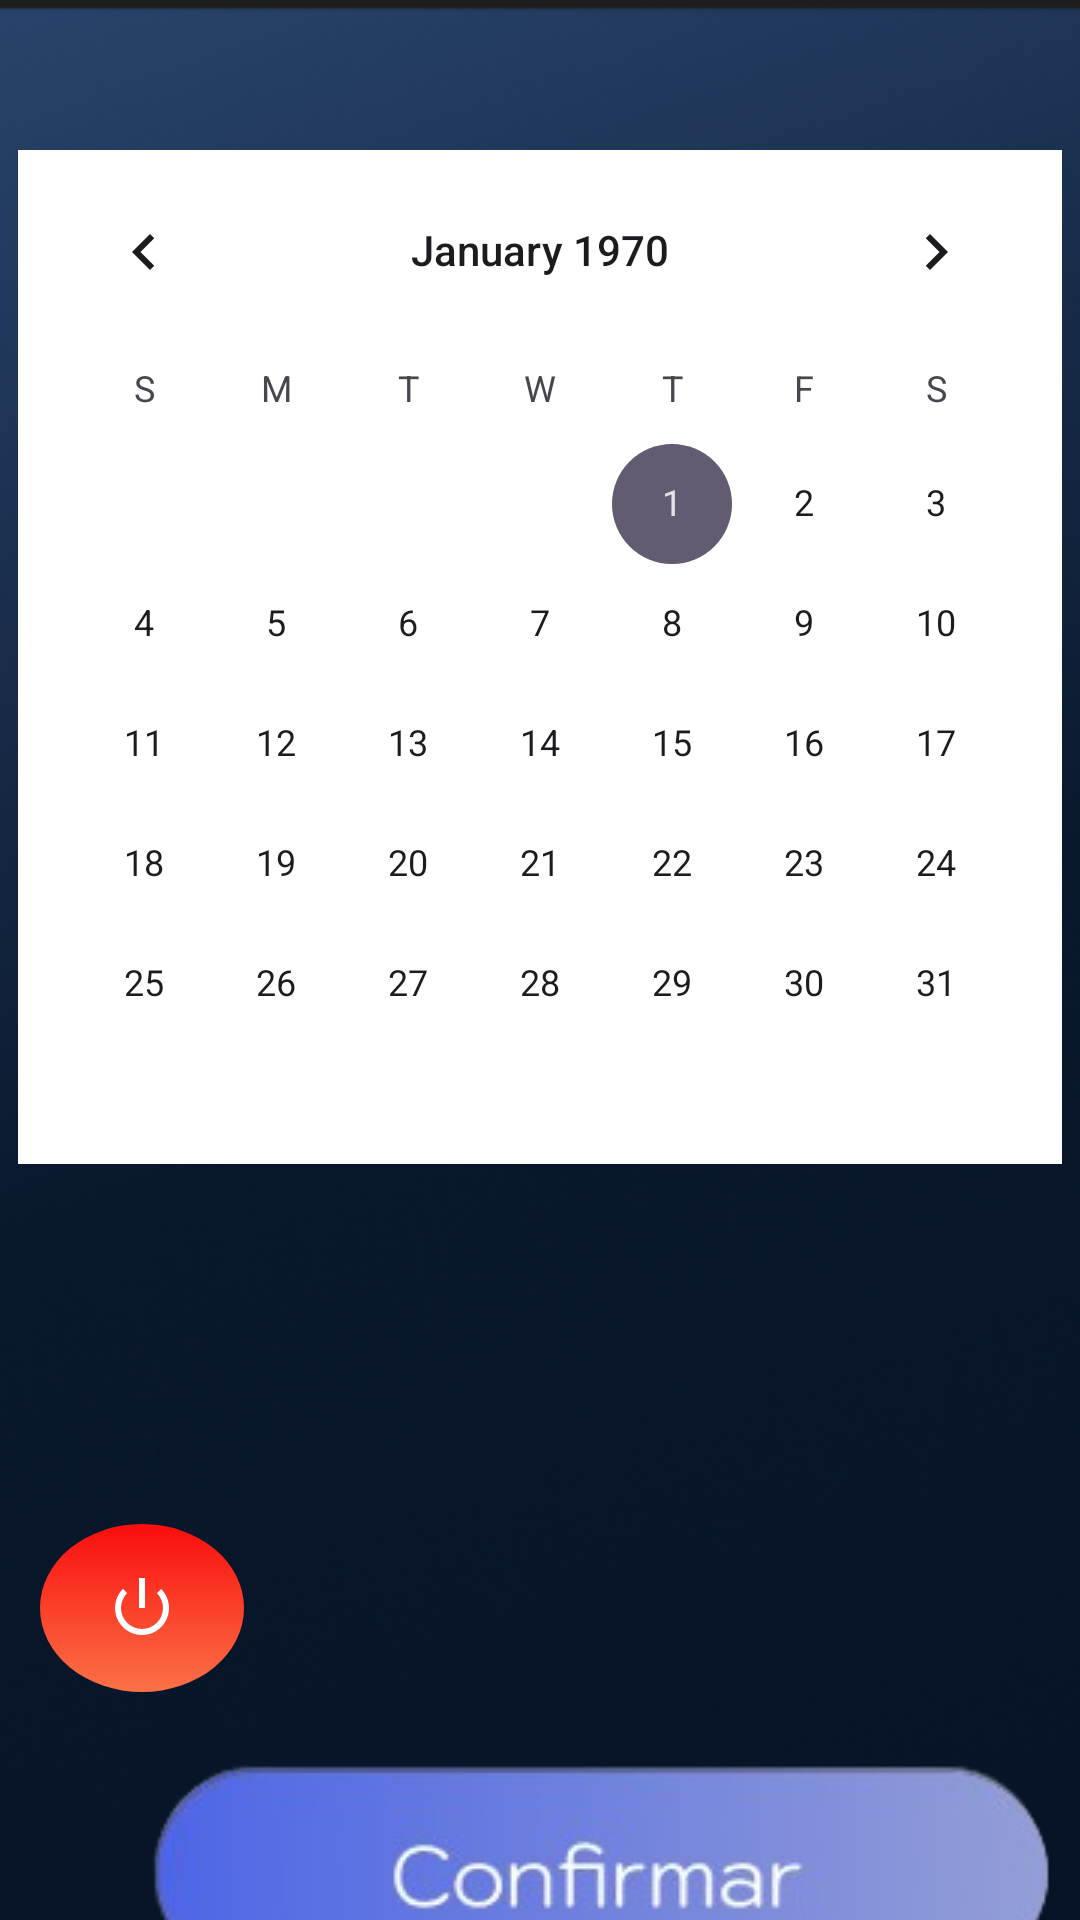

Locate icon controls on the screen. Image size 1080×1920, boxes as (x1, y1, x2, y2).
lock power off: (40, 1524, 244, 1692)
